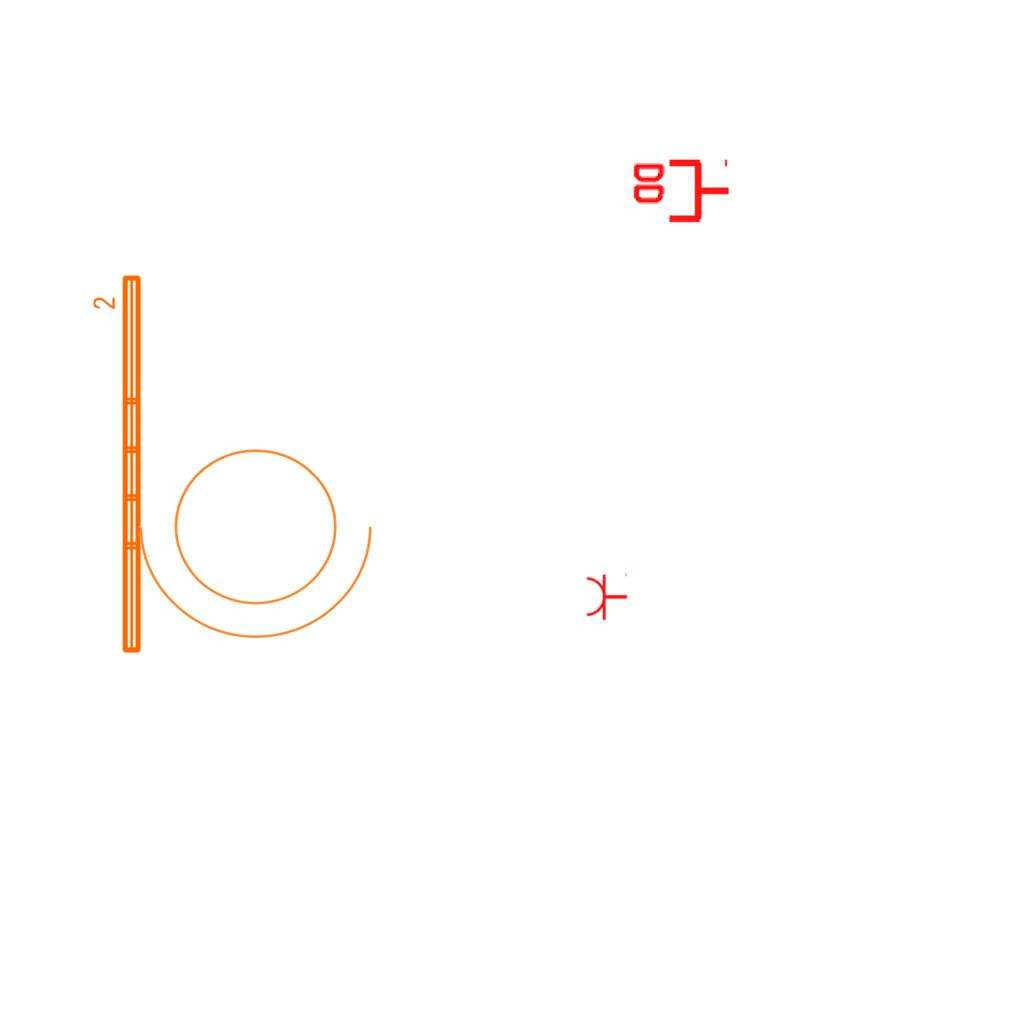Ambulanz_Pendelleuchte_LED: (91, 271, 147, 658)
Datenanschluss_zweifach: (629, 158, 732, 227)
Scheinwerfer_fuer_Alarmbeleuchtung: (130, 424, 394, 649)
Schukosteckdose_einfach: (585, 571, 628, 621)
